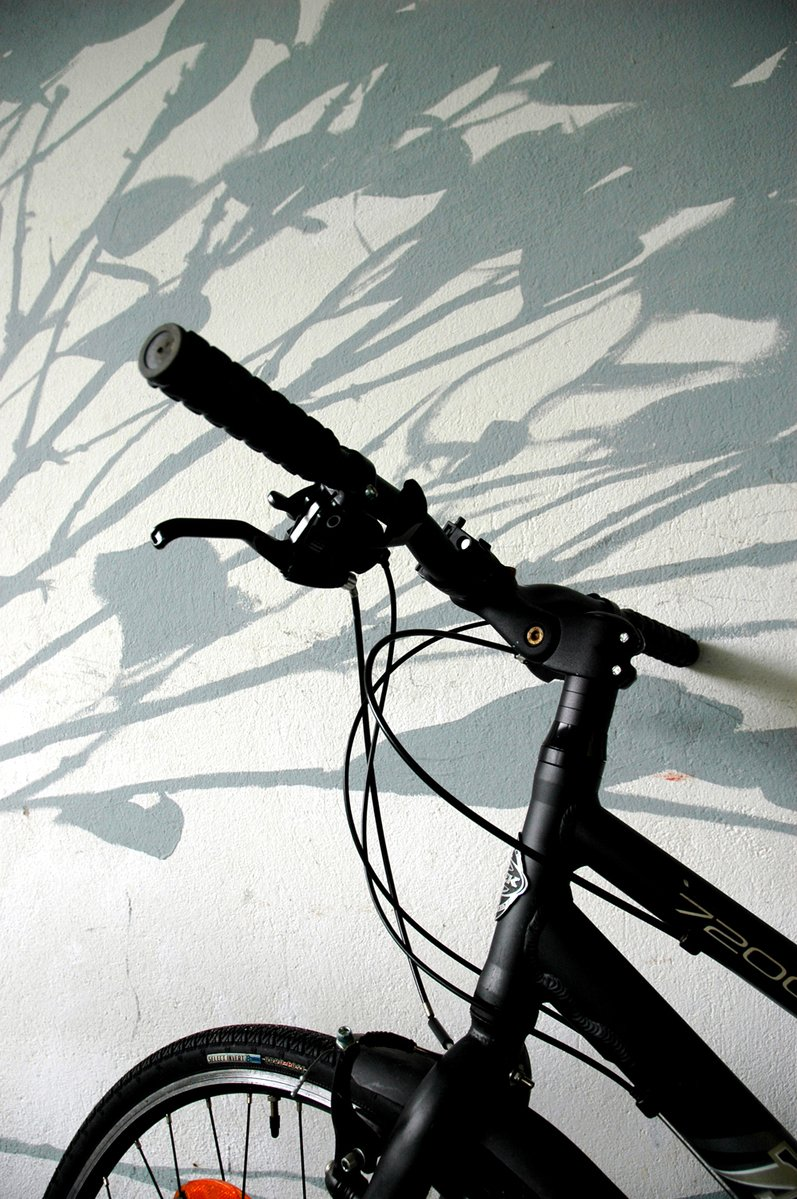Bicycle: (1, 27, 796, 1178)
